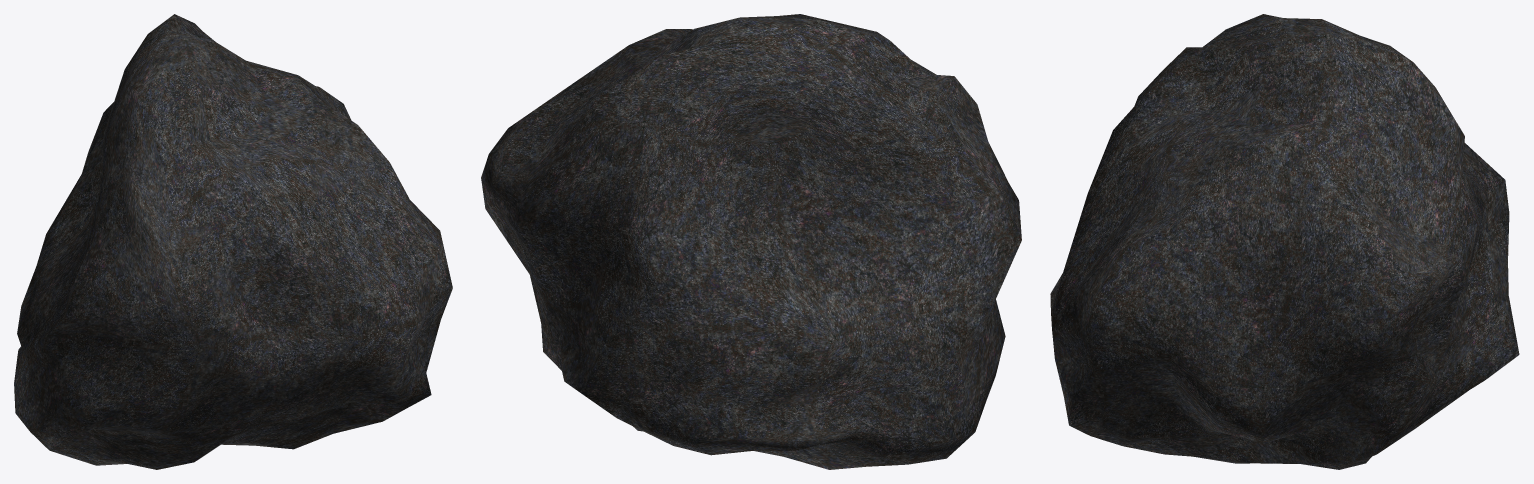
File: asteroid_metal_large_s01_l0.fbx
3 views of the same model, side by side, from view 1: azimuth 30°, elevation 25°; view 2: azimuth 150°, elevation 25°; view 3: azimuth 270°, elevation 25° (orthographic). The views are drawn at different scales.
Parts seen in each view (by area): view 1: mesh_node; view 2: mesh_node; view 3: mesh_node.
Part boxes in pixels (x1,y1,x2,y2): mesh_node: [14, 14, 452, 469]; mesh_node: [481, 14, 1021, 469]; mesh_node: [1050, 14, 1519, 469].
Size of the model in its own units: 114 by 111 by 114.
